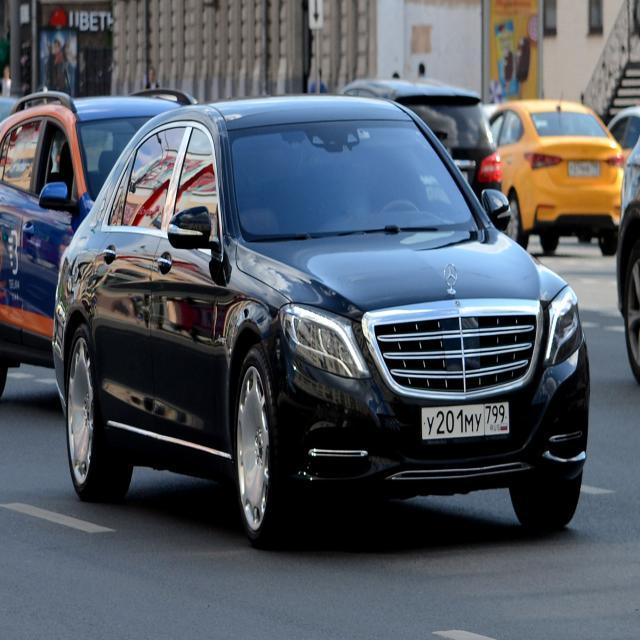car: (52, 92, 590, 543), (0, 88, 203, 400), (484, 98, 626, 255), (340, 77, 503, 211), (616, 134, 640, 384)
license: (420, 400, 510, 442)
